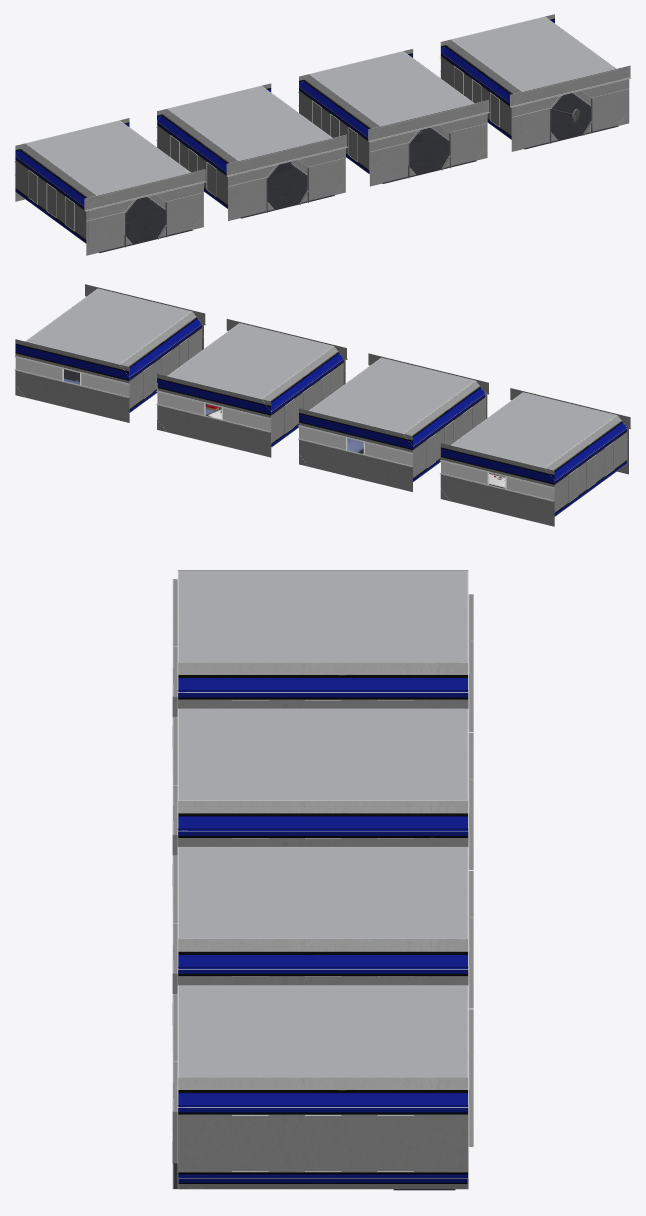
The model's file is Cells.fbx.
The picture shows the model from 3 angles, top to bottom: view 1: azimuth 30°, elevation 25°; view 2: azimuth 150°, elevation 25°; view 3: azimuth 270°, elevation 25°; orthographic projection. The views are drawn at different scales.
Parts seen in each view (by area): view 1: chair, bed4, chair3, chair2; view 2: chair, bed4, chair3, chair2; view 3: bed4, chair2, chair, chair3.
Part boxes in pixels (x1,y1,x2,y2): chair: (14, 118, 206, 255); bed4: (439, 14, 631, 151); chair3: (298, 49, 489, 186); chair2: (156, 83, 347, 221); chair: (439, 388, 631, 526); bed4: (14, 284, 206, 422); chair3: (156, 319, 347, 457); chair2: (298, 353, 489, 491); bed4: (172, 985, 473, 1190); chair2: (172, 708, 473, 912); chair: (172, 570, 473, 773); chair3: (172, 846, 473, 1050).
Size of the model in its own units: 34.65 by 3.52 by 8.29.
Materials: 9 (9 with a texture image).
